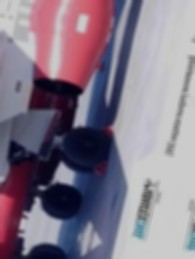chock: (90, 158, 108, 178), (98, 122, 115, 141)
wheel: (58, 122, 115, 171), (37, 177, 86, 225), (23, 239, 72, 259)
